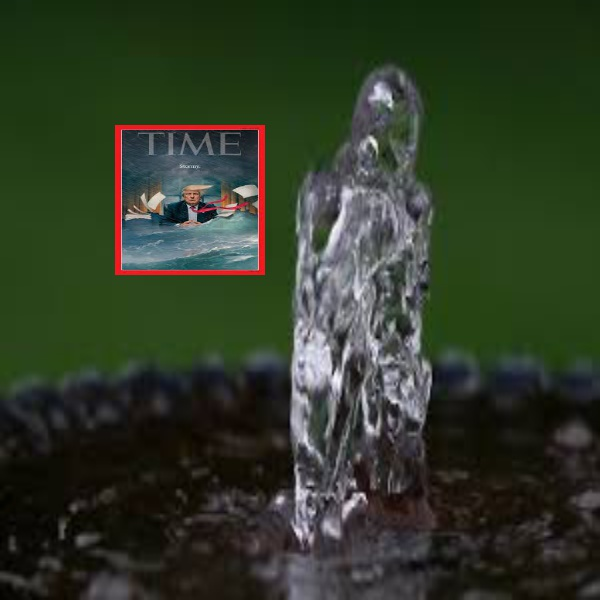time_cover: (101, 108, 275, 285)
